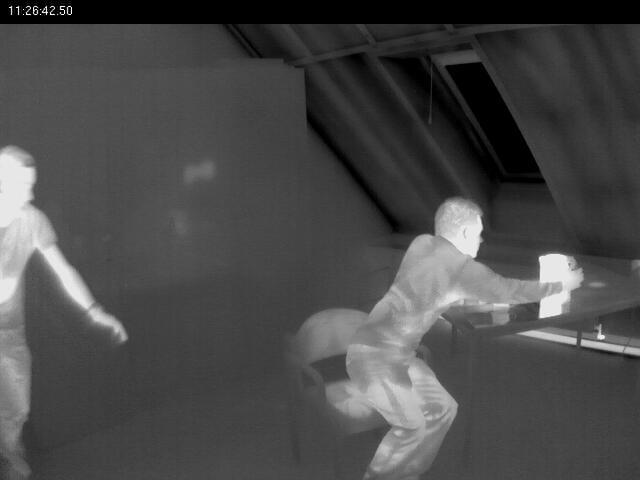person: (323, 198, 560, 480), (0, 138, 134, 479)
